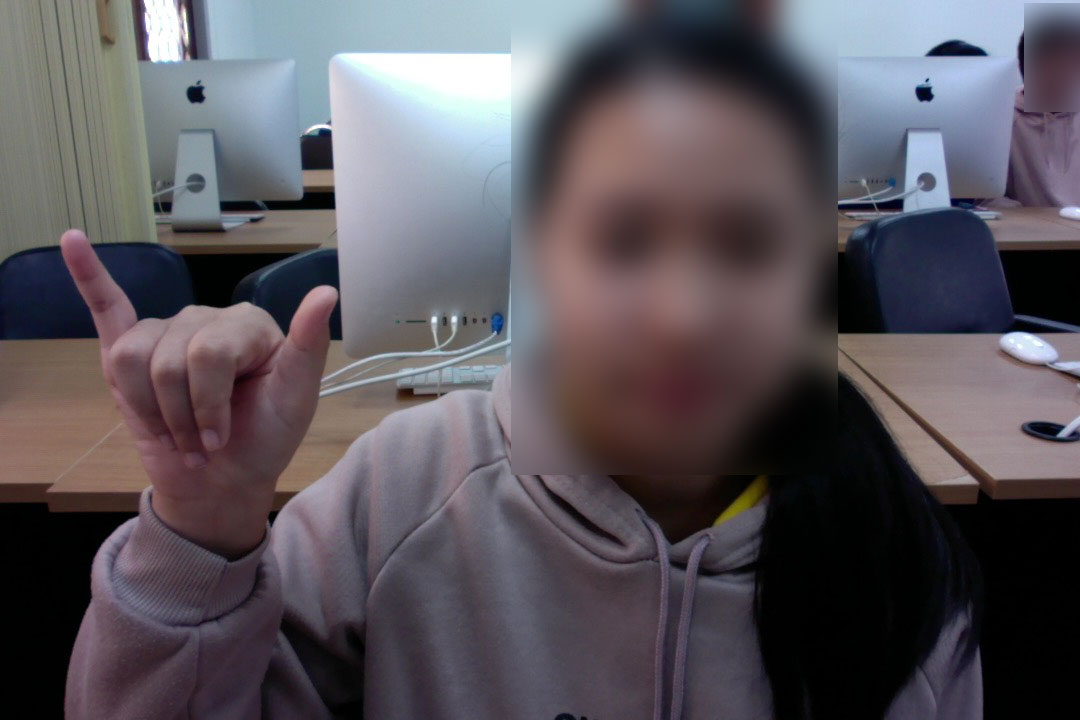yor: (51, 225, 375, 519)
